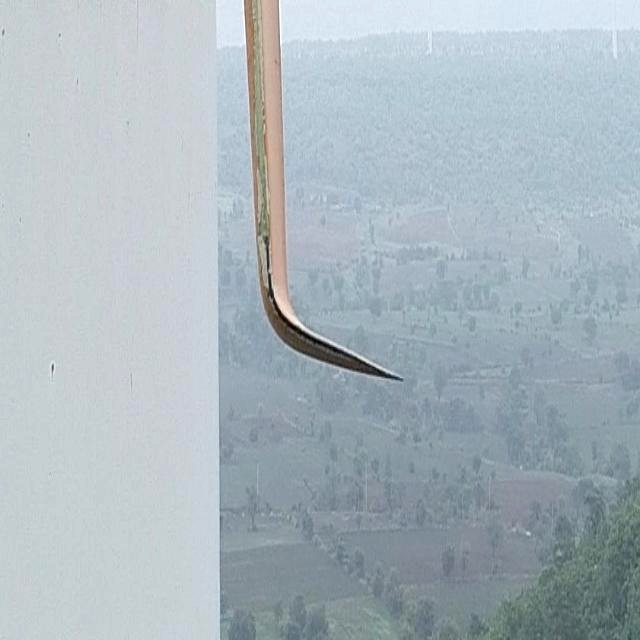EROSION: (241, 113, 318, 342)
